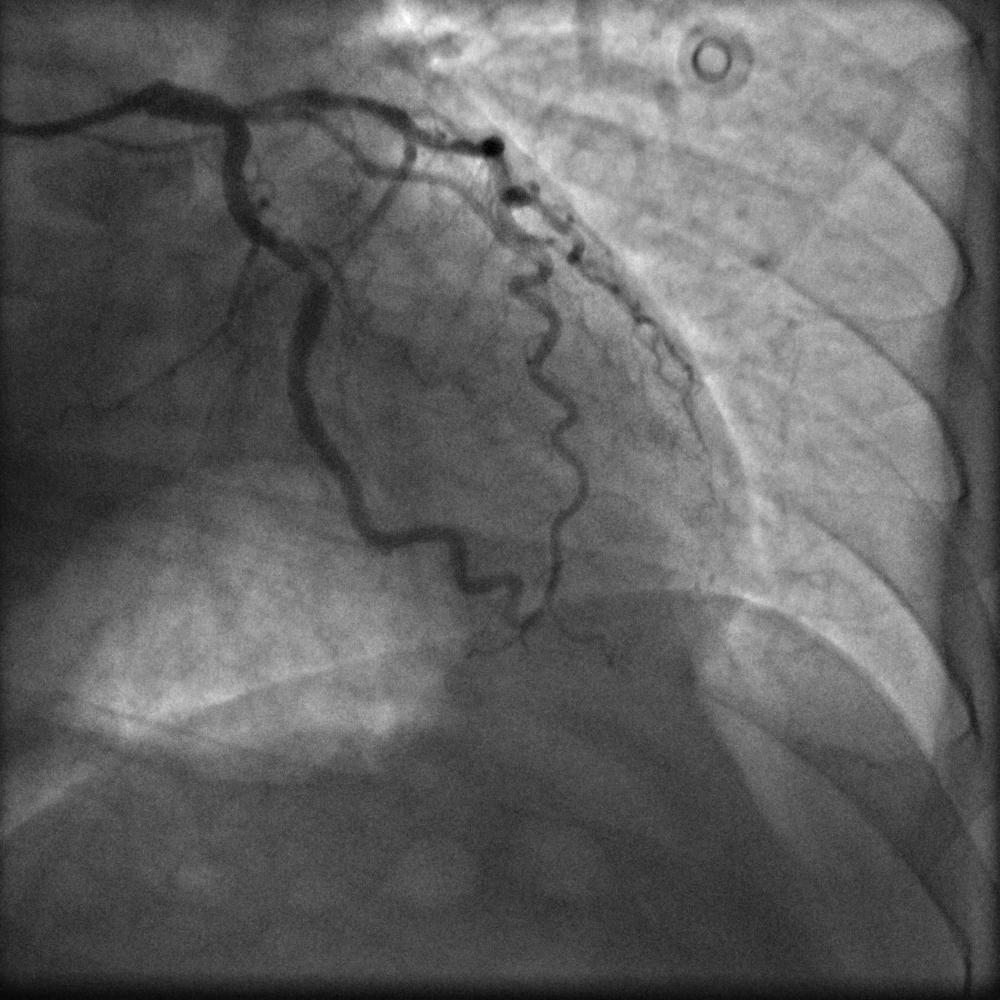Stenosis: (298, 261, 328, 295)
